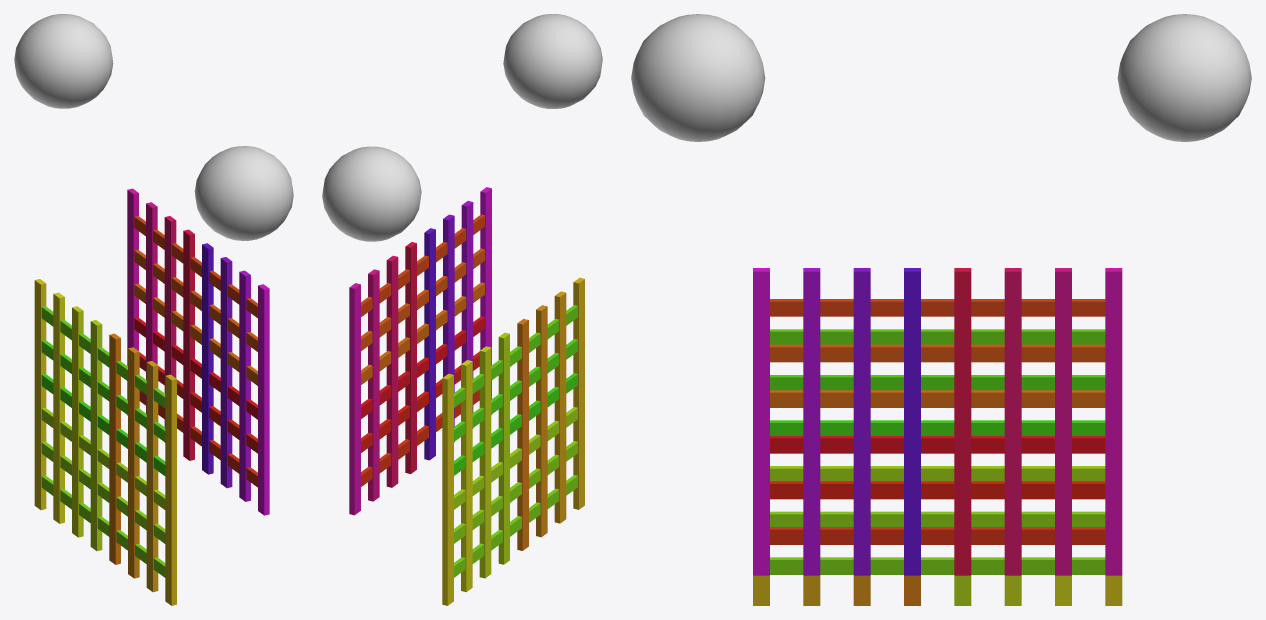
File: Structure_Tower_Knight_Human_03_debris_cells_metals.fbx
3 views of the same model, side by side, from view 1: azimuth 30°, elevation 25°; view 2: azimuth 150°, elevation 25°; view 3: azimuth 270°, elevation 25° (orthographic). The views are drawn at different scales.
Parts seen in each view (by area): view 1: Structure_Tower_Knight_Human_03.016, Structure_Tower_Knight_Human_03.019, Structure_Tower_Knight_Human_03.018, Structure_Tower_Knight_Human_03.017; view 2: Structure_Tower_Knight_Human_03.016, Structure_Tower_Knight_Human_03.019, Structure_Tower_Knight_Human_03.018, Structure_Tower_Knight_Human_03.017; view 3: Structure_Tower_Knight_Human_03.019, Structure_Tower_Knight_Human_03.016, Structure_Tower_Knight_Human_03.017, Structure_Tower_Knight_Human_03.018.
Boxes of the visible parts, bbox=[...] form: Structure_Tower_Knight_Human_03.016: bbox=[34, 279, 176, 605]; Structure_Tower_Knight_Human_03.019: bbox=[127, 188, 269, 515]; Structure_Tower_Knight_Human_03.018: bbox=[14, 14, 113, 108]; Structure_Tower_Knight_Human_03.017: bbox=[194, 146, 293, 240]; Structure_Tower_Knight_Human_03.016: bbox=[442, 277, 584, 605]; Structure_Tower_Knight_Human_03.019: bbox=[349, 187, 491, 515]; Structure_Tower_Knight_Human_03.018: bbox=[322, 146, 421, 241]; Structure_Tower_Knight_Human_03.017: bbox=[503, 14, 602, 108]; Structure_Tower_Knight_Human_03.019: bbox=[753, 268, 1122, 575]; Structure_Tower_Knight_Human_03.016: bbox=[753, 329, 1122, 605]; Structure_Tower_Knight_Human_03.017: bbox=[631, 14, 765, 141]; Structure_Tower_Knight_Human_03.018: bbox=[1117, 14, 1251, 141].
Size of the model in its own units: 91 by 405 by 370.
